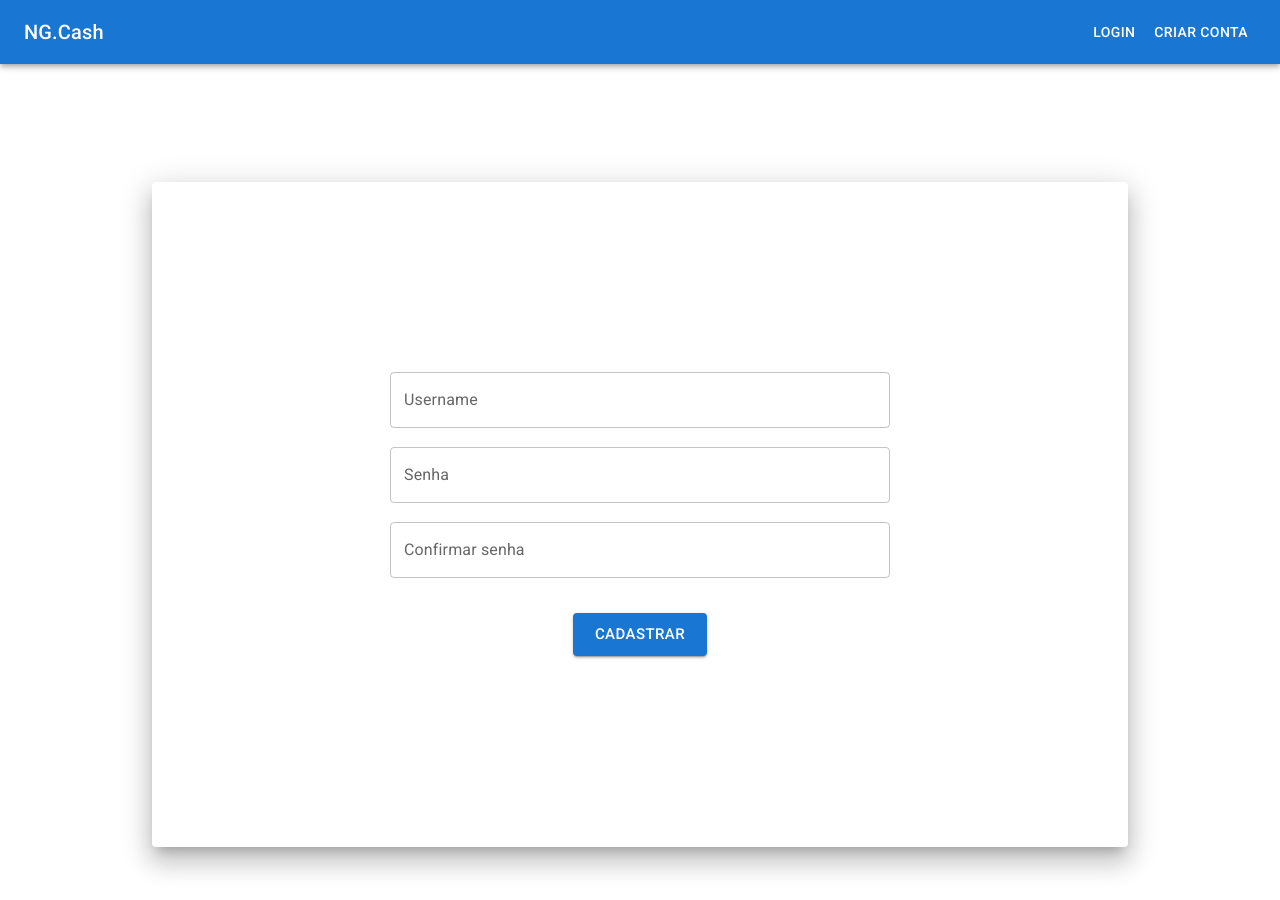
Register page › App behavior › Should not allow create an account without valid username
Type "us" into the field labelled "Username" at point(640, 400), box 390,372 -> 890,428
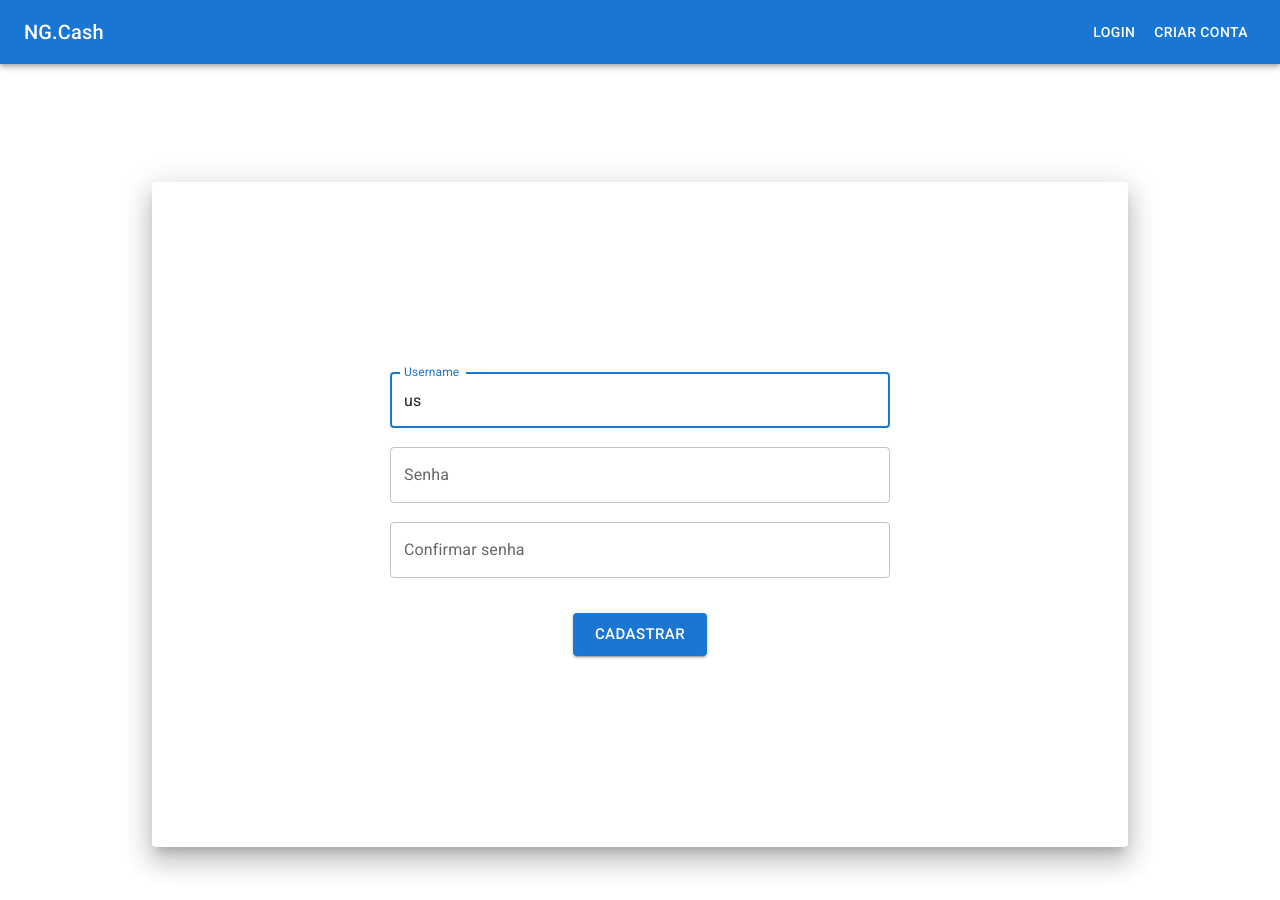
Type "User1234" into the password field labelled "Senha" at point(640, 475), box 390,447 -> 890,503
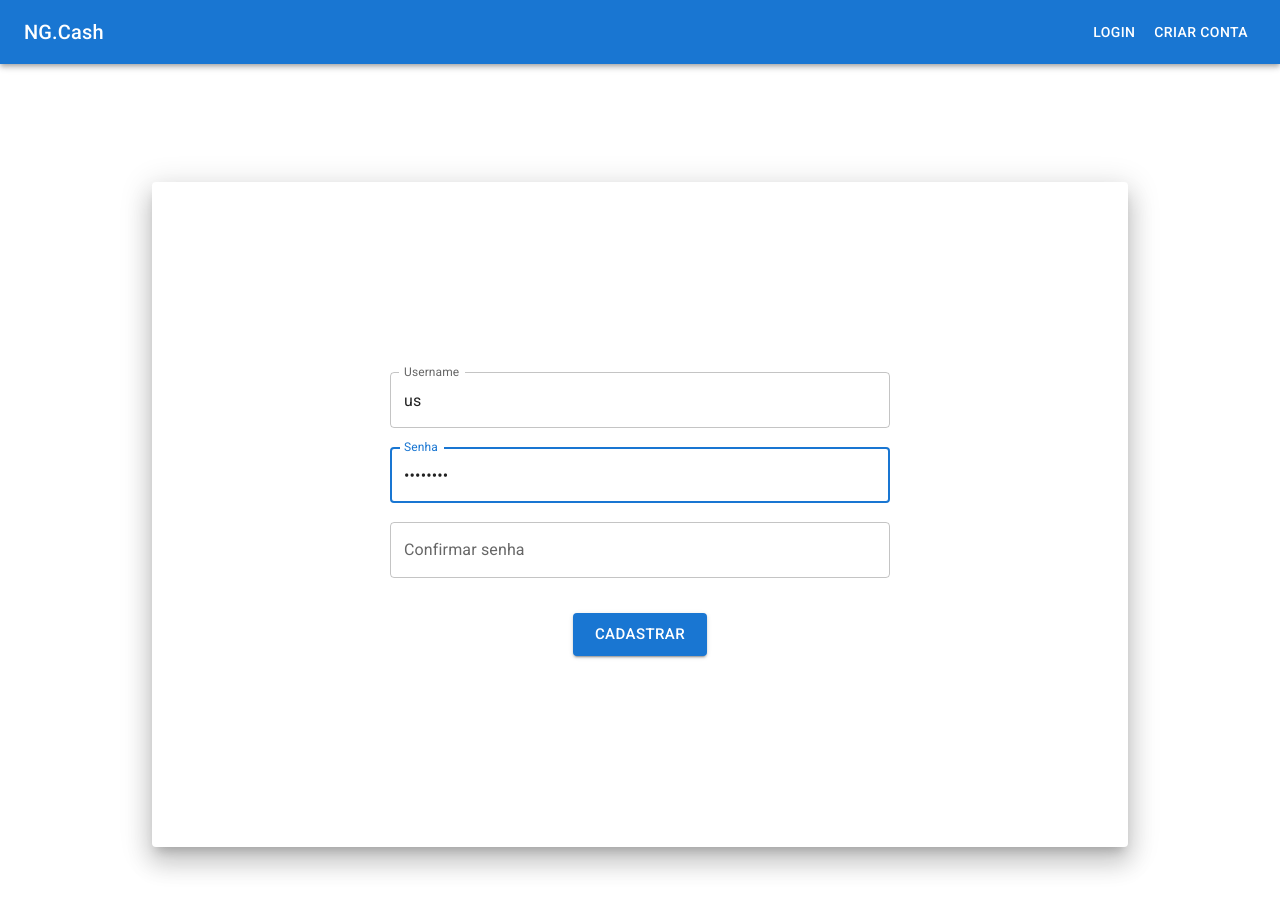
Type "User1234" into the password field labelled "Confirmar senha" at point(640, 550), box 390,522 -> 890,578
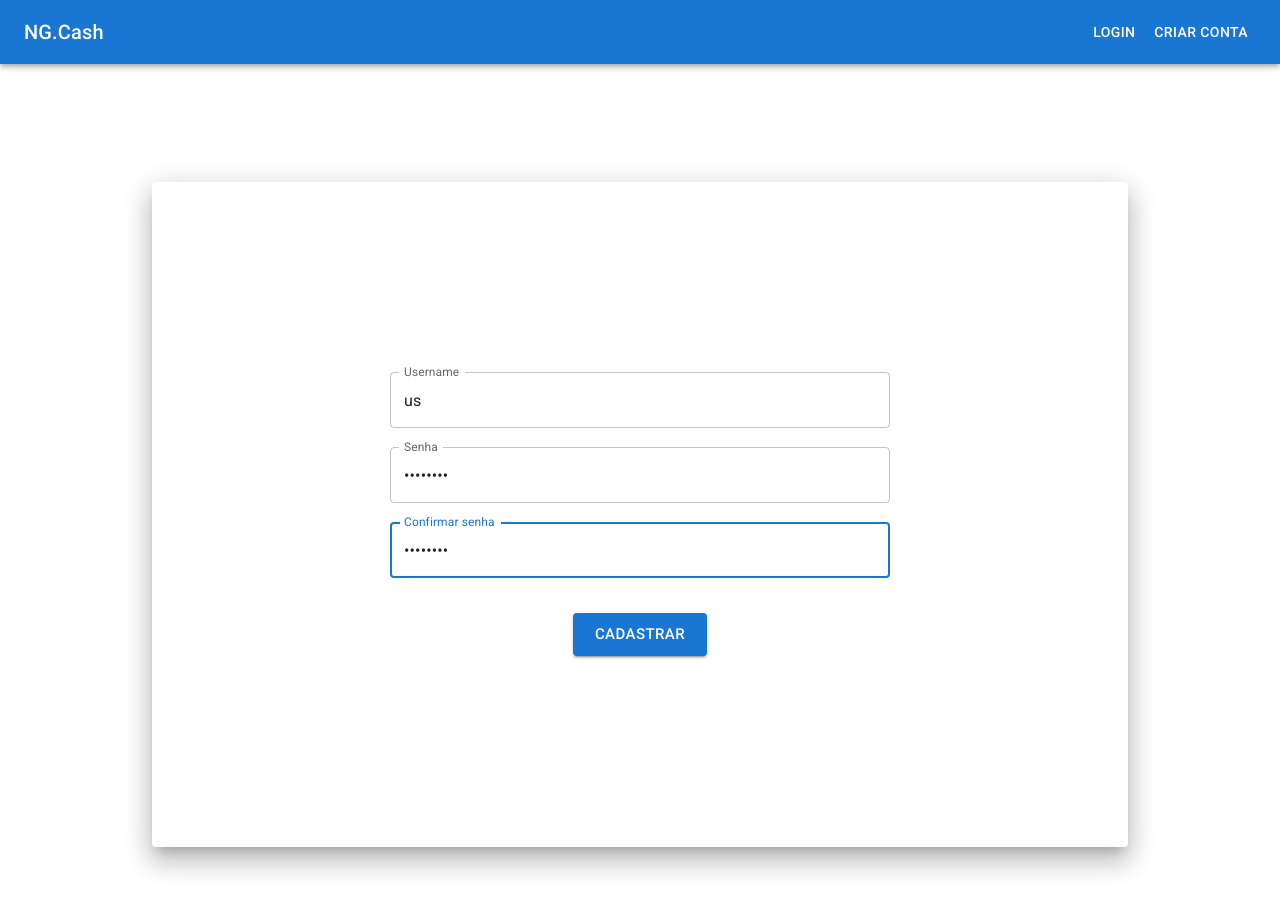
Click the button "Cadastrar" at point(640, 635), box 573,613 -> 707,656
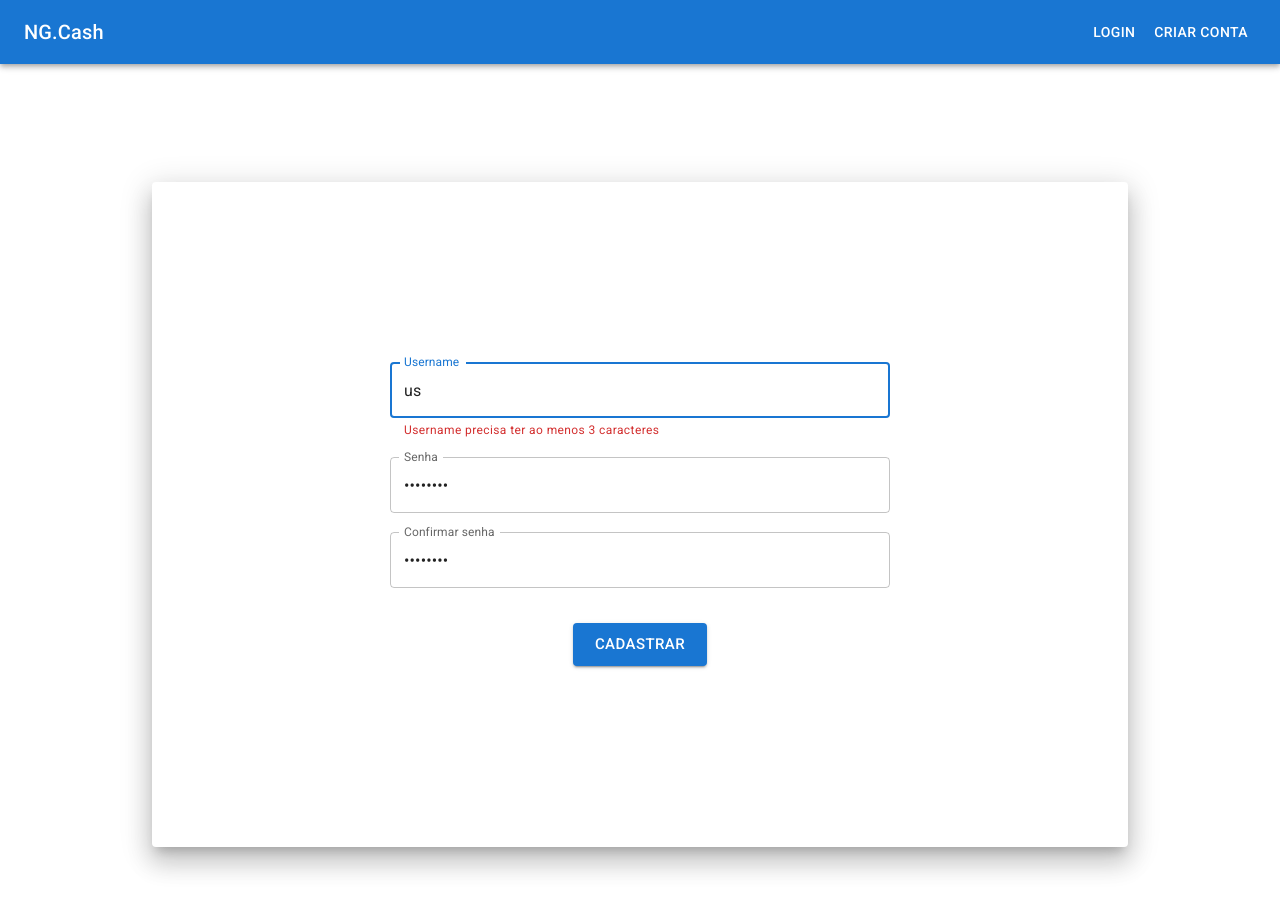
Now the text "Username precisa ter ao menos 3 caracteres" is shown, box 404,423 -> 659,437
